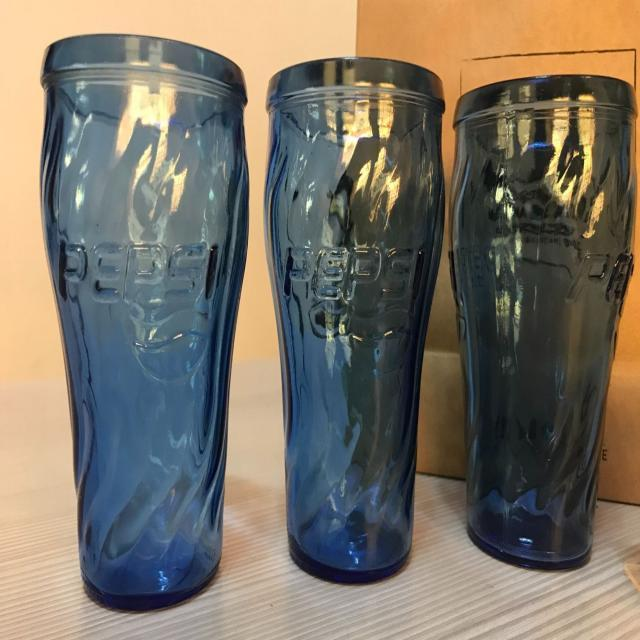glass: (35, 27, 252, 612), (258, 57, 445, 583), (454, 72, 639, 575)
